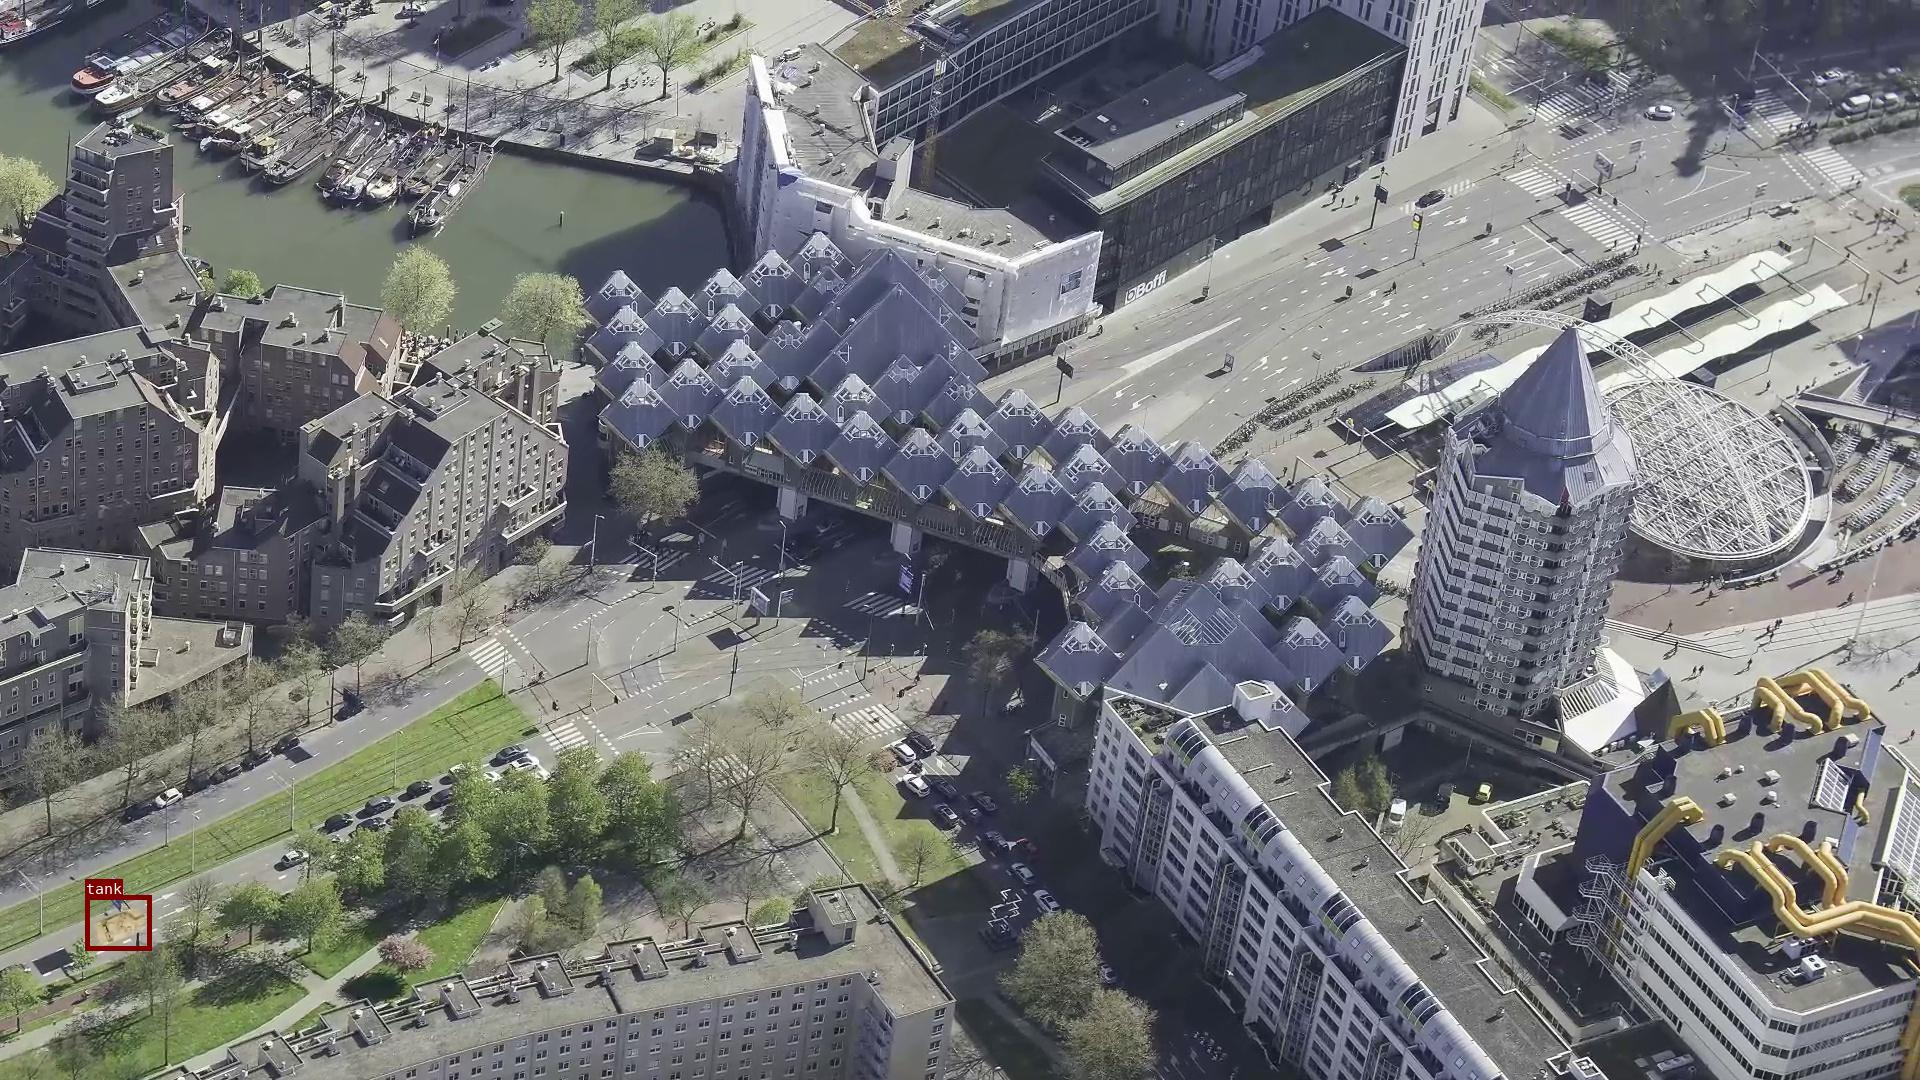tank: (84, 895, 152, 949)
